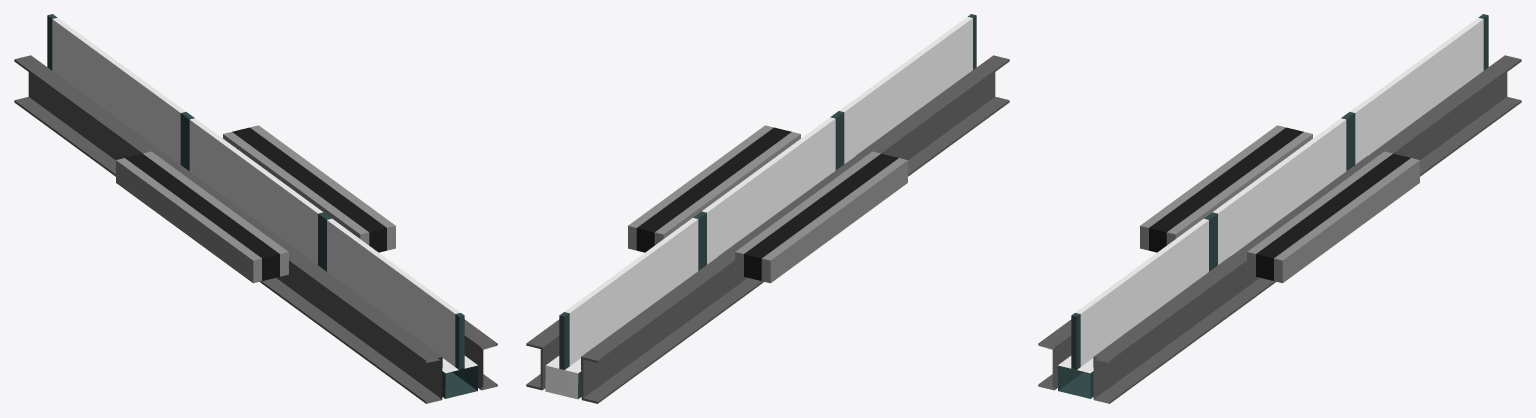
File: rmc_booster.obj
3 renders of one model, left to right at view 1: azimuth 30°, elevation 25°; view 2: azimuth 150°, elevation 25°; view 3: azimuth 330°, elevation 25°, orthographic.
Bounding box in the file's own units: 0.6604 × 0.3493 × 3.3.
